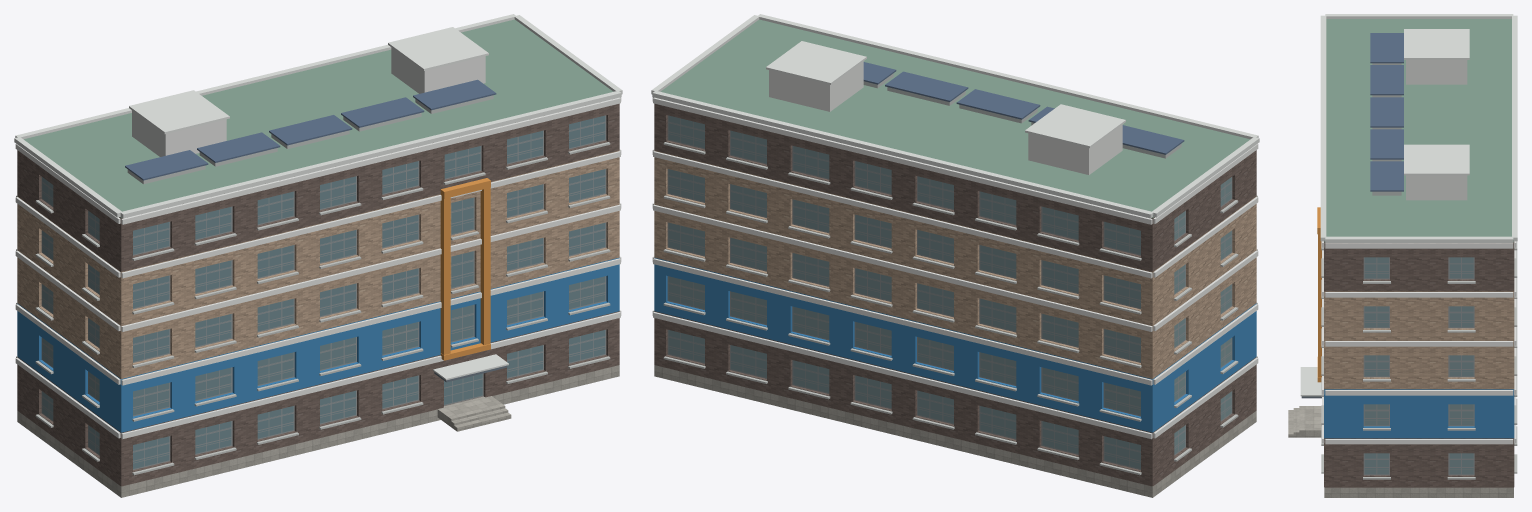
The picture shows the model from 3 angles, left to right: view 1: azimuth 30°, elevation 25°; view 2: azimuth 150°, elevation 25°; view 3: azimuth 270°, elevation 25°; orthographic projection. The views are drawn at different scales.
Parts seen in each view (by area): view 1: main-west__buffbrick, main-west__darkbrick, main-west__glass, main-west__roof, main-west__blue, main-west__band, main-west__frame, main-west__cap, main-west__sill, main-west__solar, main-west__stone, main-west__panel (+5 smaller); view 2: main-west__buffbrick, main-west__darkbrick, main-west__sideglass, main-west__roof, main-west__band, main-west__blue, main-west__frame, main-west__cap, main-west__sill, main-west__stone, main-west__panel, main-west__solar (+1 smaller); view 3: main-west__roof, main-west__darkbrick, main-west__buffbrick, main-west__cap, main-west__blue, main-west__band, main-west__solar, main-west__sideglass, main-west__panel, main-west__frame, main-west__stone, main-west__sill (+4 smaller).
Part boxes in pixels (bbox=[...]): main-west__buffbrick: bbox=[17, 150, 619, 378]; main-west__darkbrick: bbox=[17, 103, 619, 486]; main-west__glass: bbox=[133, 115, 605, 468]; main-west__roof: bbox=[24, 19, 613, 218]; main-west__blue: bbox=[17, 257, 619, 432]; main-west__band: bbox=[15, 97, 621, 439]; main-west__frame: bbox=[41, 115, 606, 469]; main-west__cap: bbox=[14, 14, 622, 380]; main-west__sill: bbox=[35, 142, 610, 475]; main-west__solar: bbox=[125, 79, 496, 180]; main-west__stone: bbox=[17, 365, 619, 497]; main-west__panel: bbox=[132, 47, 485, 156]; main-west__buffbrick: bbox=[654, 150, 1256, 378]; main-west__darkbrick: bbox=[654, 103, 1256, 486]; main-west__sideglass: bbox=[668, 115, 1231, 468]; main-west__roof: bbox=[660, 19, 1249, 218]; main-west__band: bbox=[652, 97, 1258, 439]; main-west__blue: bbox=[654, 257, 1256, 432]; main-west__frame: bbox=[667, 115, 1232, 469]; main-west__cap: bbox=[651, 14, 1259, 218]; main-west__sill: bbox=[663, 142, 1238, 475]; main-west__stone: bbox=[654, 365, 1256, 497]; main-west__panel: bbox=[769, 61, 1122, 174]; main-west__solar: bbox=[863, 62, 1184, 154]; main-west__roof: bbox=[1324, 19, 1513, 242]; main-west__darkbrick: bbox=[1324, 241, 1514, 487]; main-west__buffbrick: bbox=[1324, 291, 1514, 389]; main-west__cap: bbox=[1300, 14, 1517, 396]; main-west__blue: bbox=[1324, 389, 1514, 438]; main-west__band: bbox=[1322, 241, 1516, 444]; main-west__solar: bbox=[1370, 33, 1403, 191]; main-west__sideglass: bbox=[1364, 257, 1473, 474]; main-west__panel: bbox=[1406, 60, 1467, 200]; main-west__frame: bbox=[1363, 257, 1474, 475]; main-west__stone: bbox=[1324, 487, 1513, 497]; main-west__sill: bbox=[1321, 241, 1517, 479].
Bounding box in the file's own units: 36.5 × 21.58 × 15.72.
Materials: 17 (3 with a texture image).
